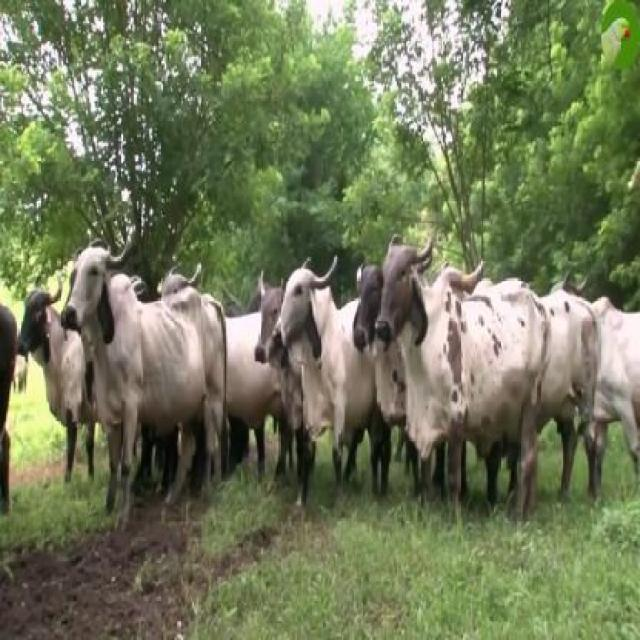Cow: (377, 238, 549, 524), (69, 244, 228, 530)
